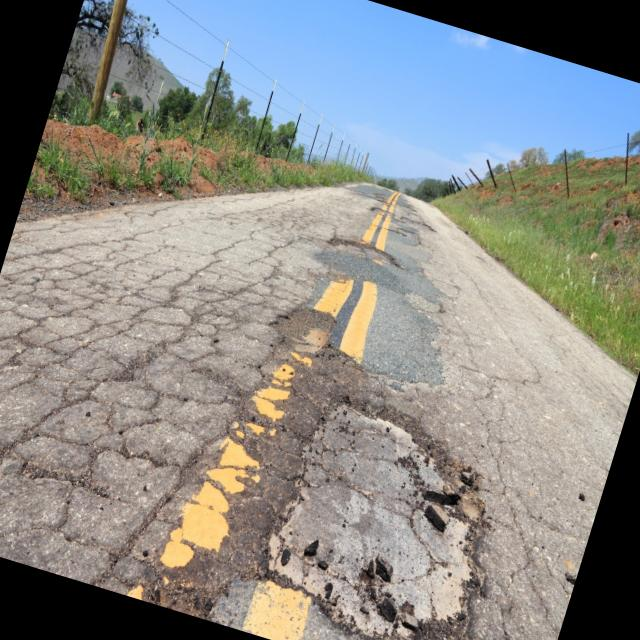Potholes: (309, 202, 435, 303)
